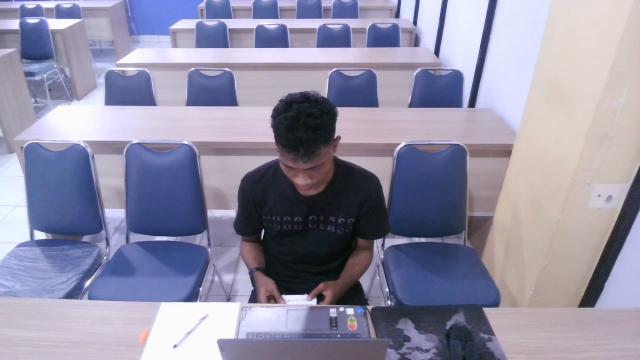Cheat_Sheet: (272, 290, 322, 307)
Head_Down_Extreme: (218, 74, 397, 329)
